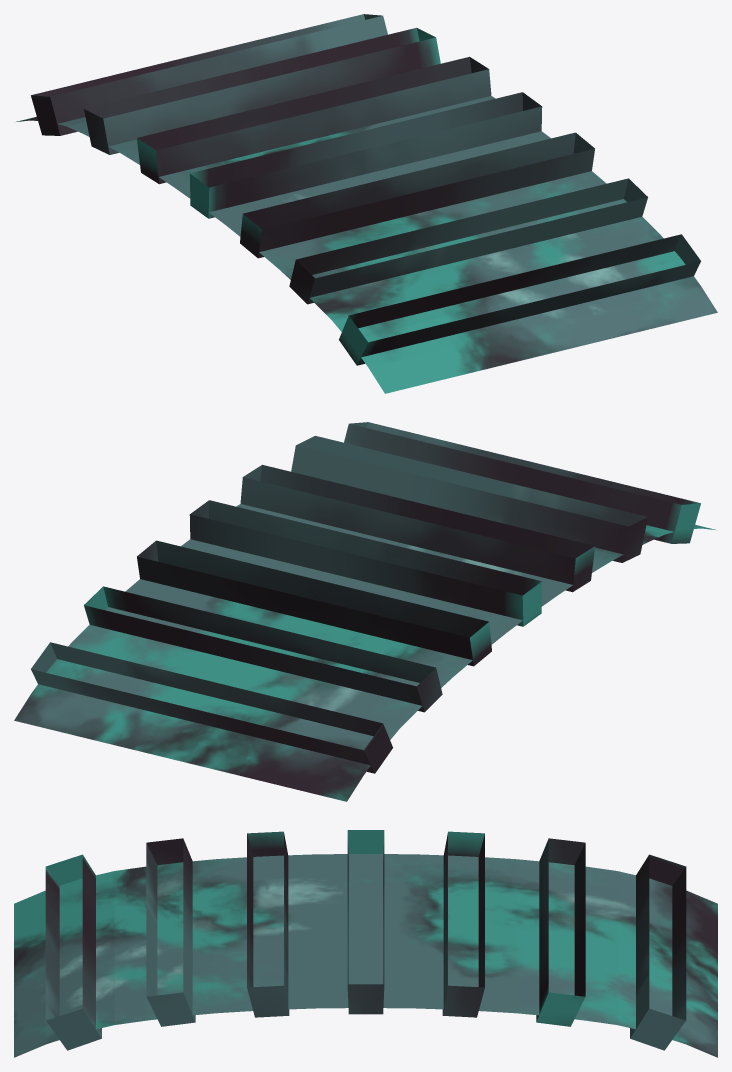
The model's file is BunkerCeilingLarge.fbx.
3 renders of one model, top to bottom at view 1: azimuth 30°, elevation 25°; view 2: azimuth 150°, elevation 25°; view 3: azimuth 270°, elevation 25°, orthographic. The views are drawn at different scales.
Visible parts, largest first — view 1: Plane; view 2: Plane; view 3: Plane.
Boxes of the visible parts, box(x1,y1,x2,y2) form: Plane: box(16, 14, 717, 393); Plane: box(14, 422, 715, 801); Plane: box(14, 830, 717, 1057).
Size of the model in its own units: 3300 by 735 by 6370.
